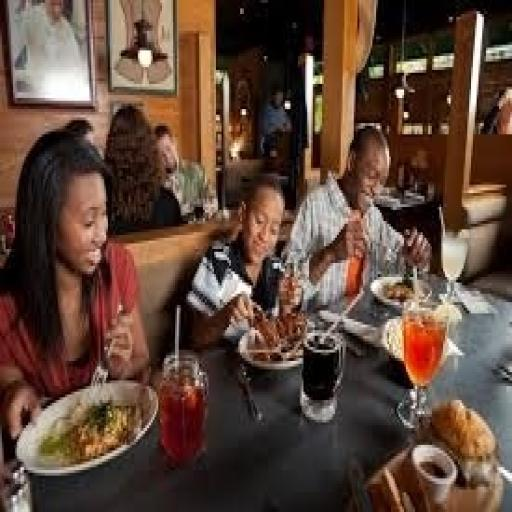eating: (0, 123, 153, 439)
